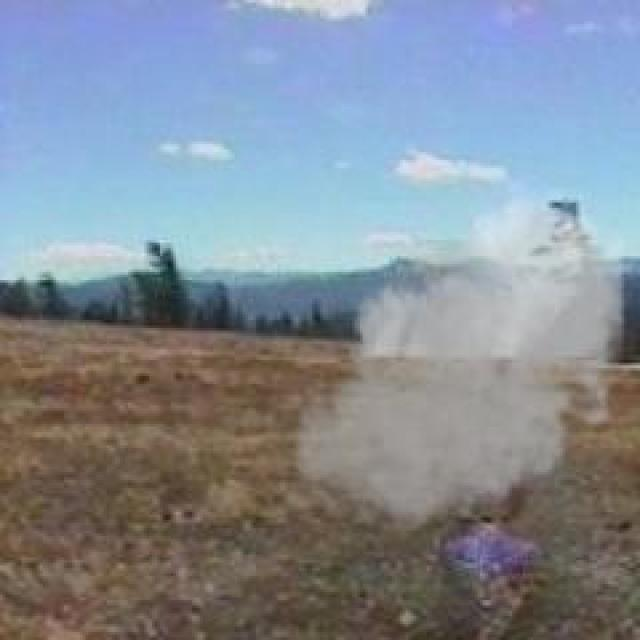Smoke: (287, 184, 630, 554)
